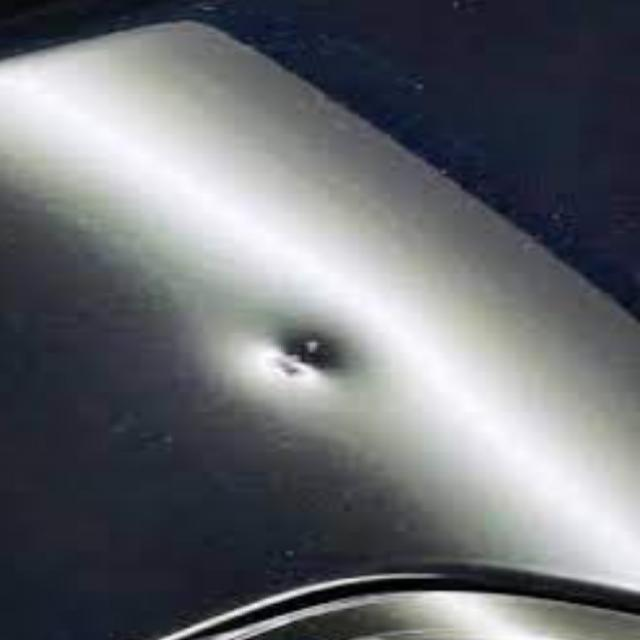dents: (222, 302, 494, 429)
